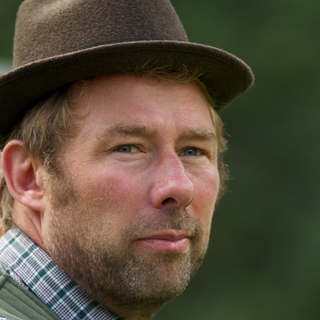eye: (167, 136, 212, 164), (102, 138, 151, 161)
